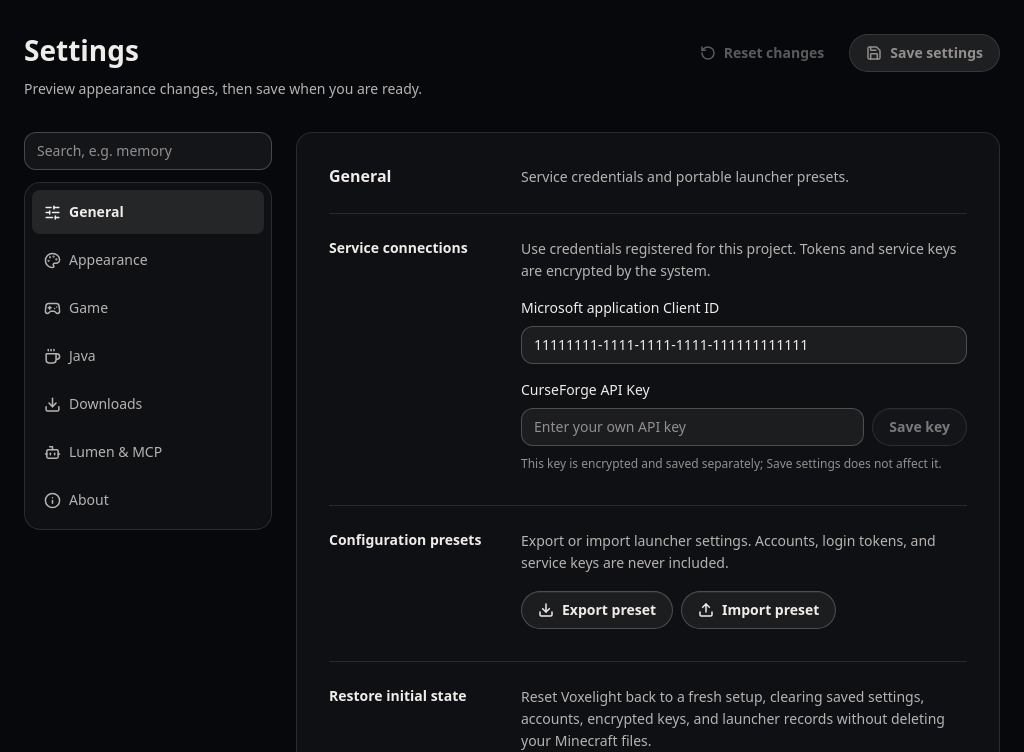
Test: global settings › renders a measured verdict for a saved auto source
Click the button "Downloads" at point(148, 404), box [32,382,264,426]
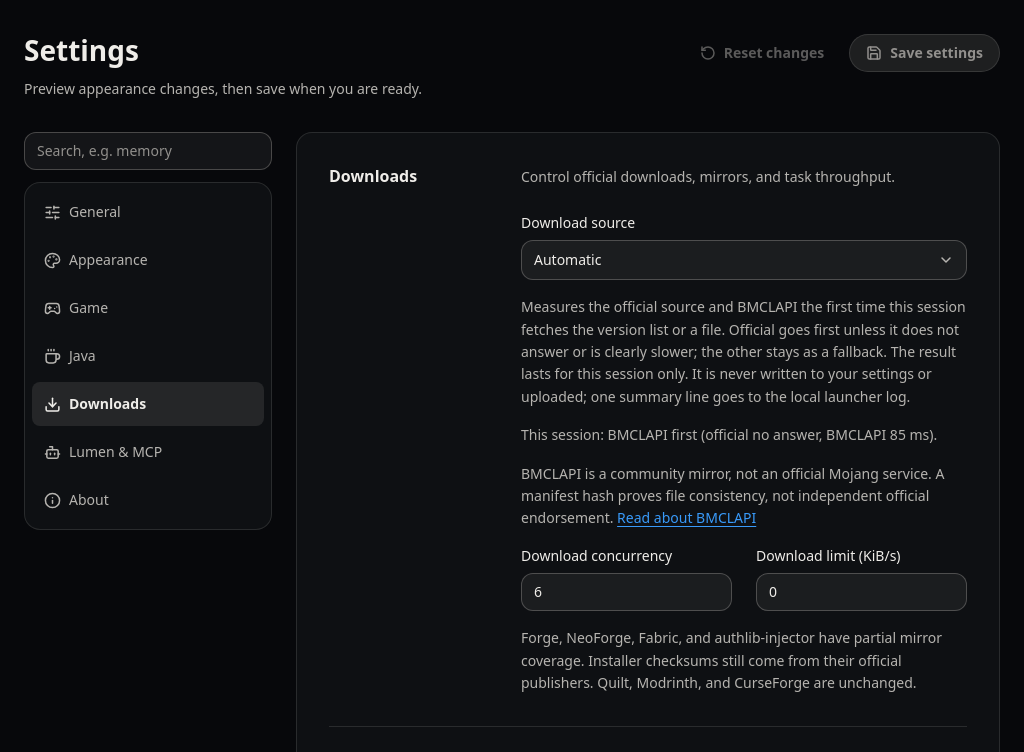
Expected: the text with test id "download-source-verdict" reads "This session: BMCLAPI first (official no answer, BMCLAPI 85 ms).", [521,425,937,444]
Expected: the text "Official goes first unless it does not answer or is clearly slower" is shown, [521,297,966,406]
Expected: the text "one summary line goes to the local launcher log" is shown, [521,297,966,406]
